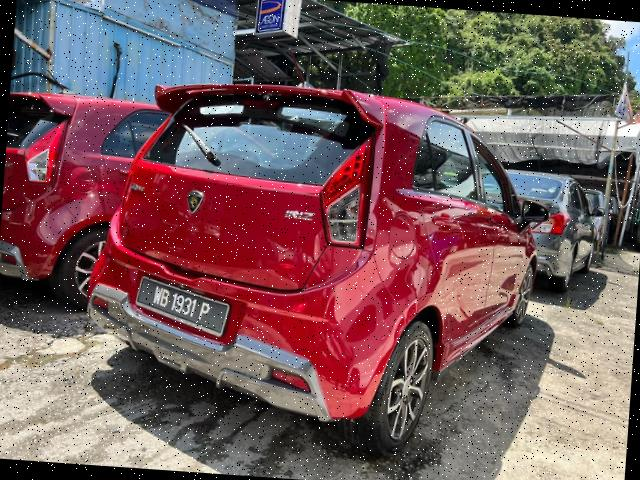License_Plate: (137, 272, 227, 343)
car: (91, 63, 556, 465)
